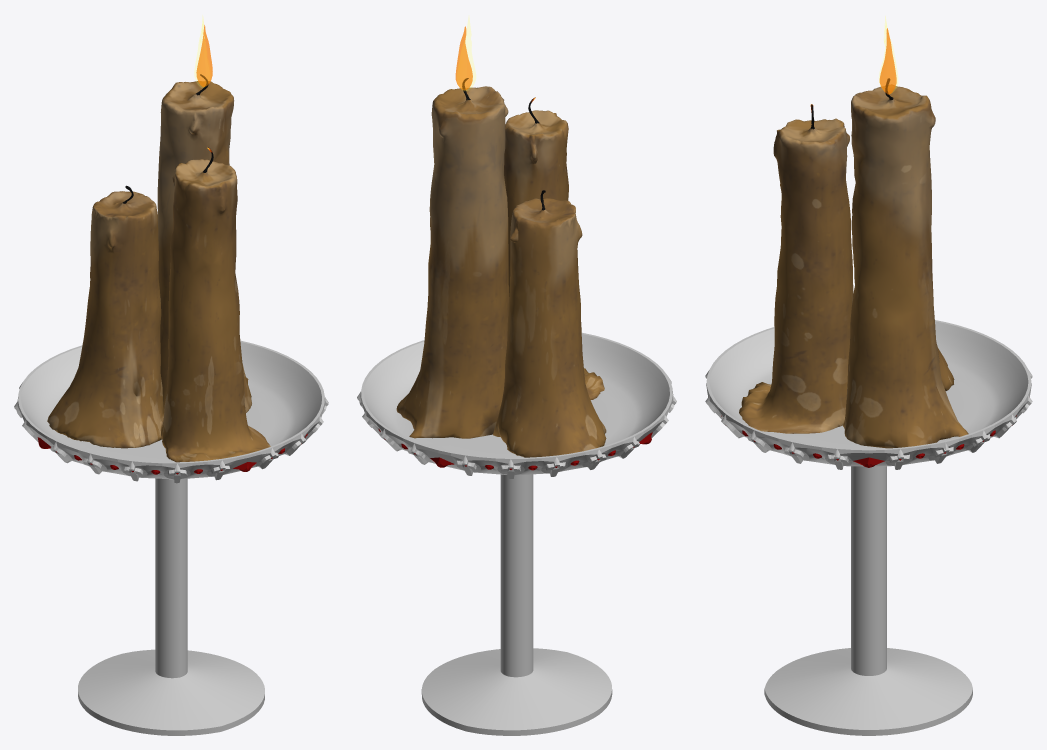
3 renders of one model, left to right at view 1: azimuth 30°, elevation 25°; view 2: azimuth 150°, elevation 25°; view 3: azimuth 270°, elevation 25°, orthographic. The views are drawn at different scales.
Visible parts, largest first — view 1: candles, candlestick, fire2; view 2: candles, candlestick, fire2; view 3: candles, candlestick, fire2.
Boxes of the visible parts, x1,y1,x2,y2 form: candles: (47,74,270,462); candlestick: (14,340,328,735); fire2: (196,25,212,86); candles: (396,78,606,457); candlestick: (357,332,676,735); fire2: (455,26,472,90); candles: (739,78,968,448); candlestick: (705,320,1032,735); fire2: (879,28,896,94).
Size of the model in its own units: 7492 by 17813 by 7541.
